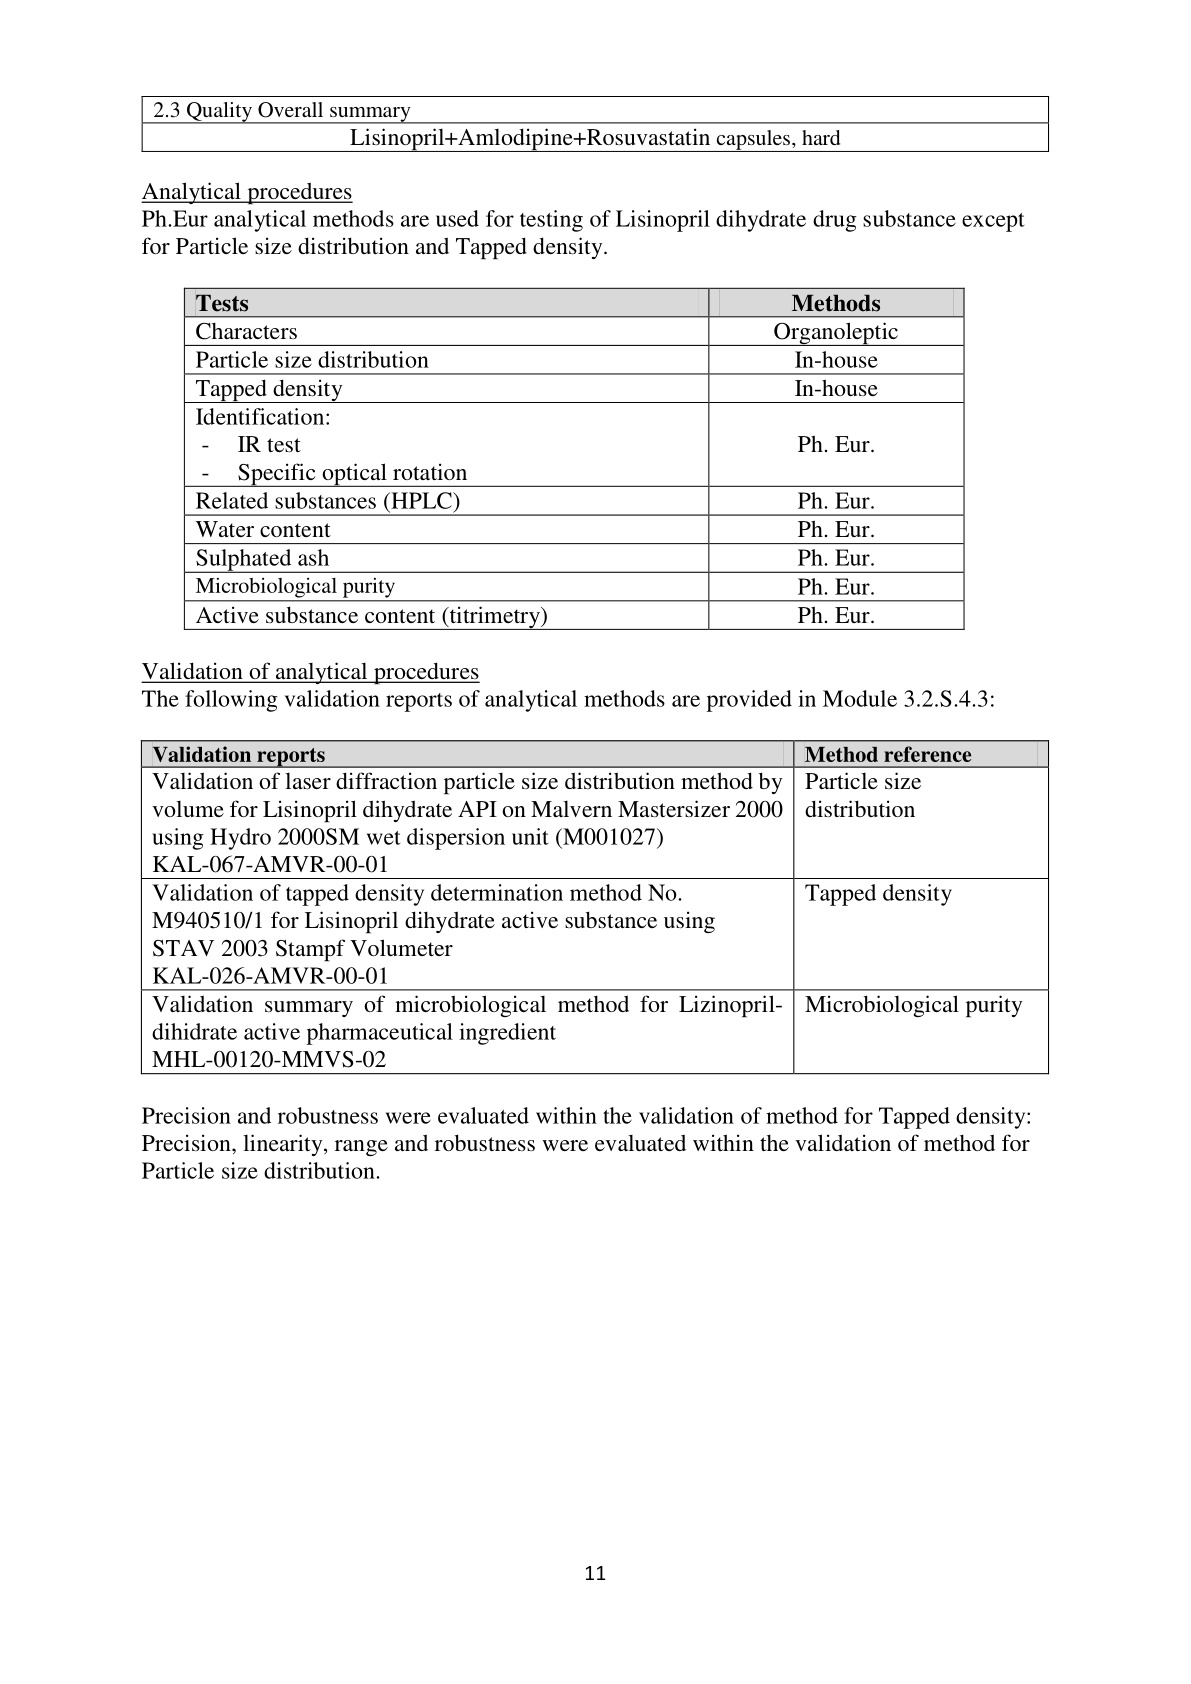full_lined: (139, 740, 1049, 1075), (182, 287, 965, 630), (144, 97, 1051, 153)
